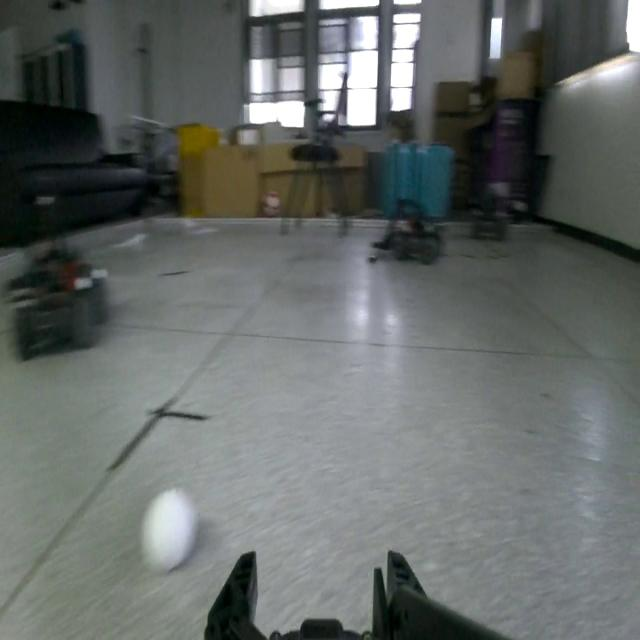ball1: (142, 489, 196, 577)
ep: (8, 160, 116, 361), (366, 190, 447, 272)
